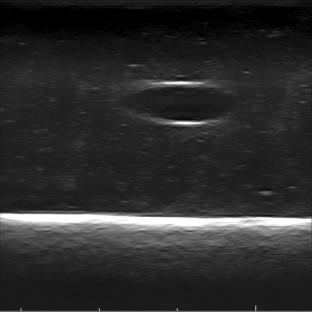vessel: (123, 81, 236, 128)
